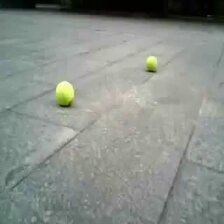tennis: (56, 81, 73, 105), (146, 56, 157, 69)
